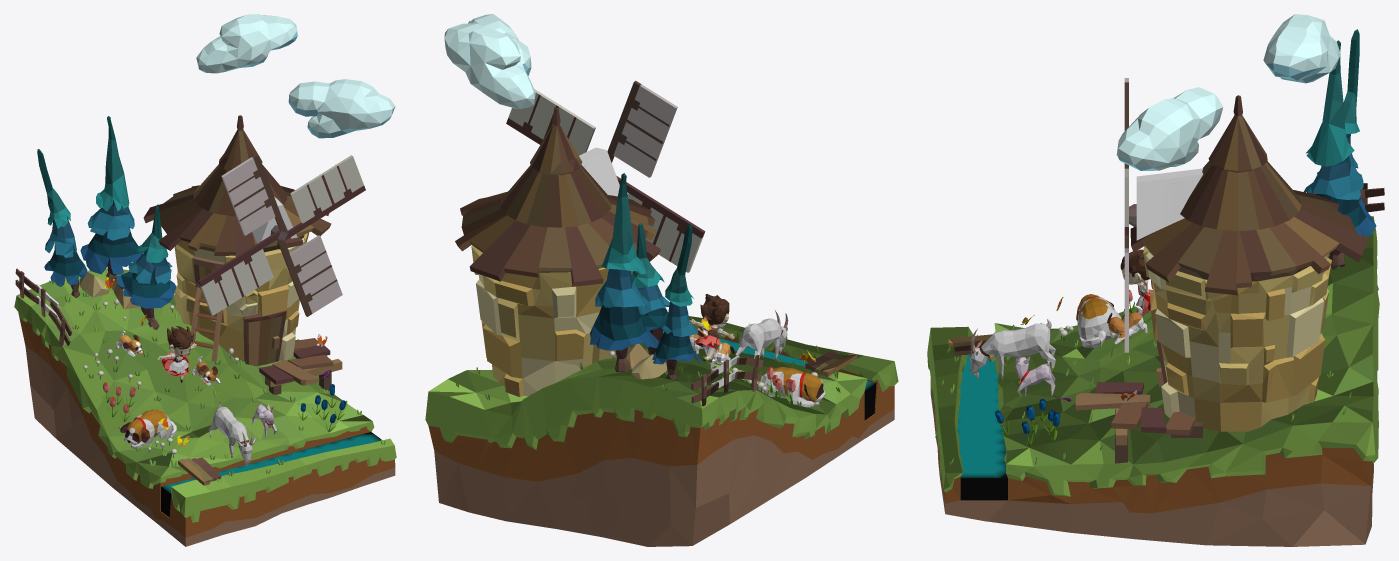
File: 0022_heidi.fbx
3 views of the same model, side by side, from view 1: azimuth 30°, elevation 25°; view 2: azimuth 150°, elevation 25°; view 3: azimuth 270°, elevation 25° (orthographic). The views are drawn at different scales.
Visible parts, largest first — view 1: Plate01, Plate02, Windmill_Roof01, Windmill_brick, WindMill_wing02 (×2), WindMill_wing01 (×2), Cloud01, Cloud02, Door, Tree02_Leaves03, [water], Tree02_Leaves01 (+16 smaller); view 2: Plate01, Windmill_Roof01, Windmill_brick, Cloud02, WindMill_wing02 (×2), WindMill_wing01, Plate02, Tree02_Leaves03, Tree02_Leaves01, Tree02_Leaves02, Goat, Windmill_Roof02 (+11 smaller); view 3: Plate01, Windmill_brick, Windmill_Roof01, Cloud01, [water], Plate02, Cloud02, Windmill_Roof02, Goat, Tree02_Leaves01, Tree02_Leaves02, Dog_Body (+9 smaller).
Boxes of the visible parts, bbox=[...] form: Plate01: bbox=[14, 268, 374, 525]; Plate02: bbox=[160, 438, 396, 546]; Windmill_Roof01: bbox=[143, 115, 331, 256]; Windmill_brick: bbox=[174, 232, 308, 361]; WindMill_wing02 (×2): bbox=[198, 155, 365, 315]; WindMill_wing01 (×2): bbox=[221, 154, 342, 316]; Cloud01: bbox=[288, 79, 395, 138]; Cloud02: bbox=[196, 14, 297, 73]; Door: bbox=[243, 310, 286, 366]; Tree02_Leaves03: bbox=[80, 227, 142, 274]; [water]: bbox=[161, 432, 380, 517]; Tree02_Leaves01: bbox=[96, 116, 129, 211]; Plate01: bbox=[425, 343, 867, 546]; Windmill_Roof01: bbox=[455, 107, 660, 286]; Windmill_brick: bbox=[471, 245, 632, 396]; Cloud02: bbox=[444, 23, 535, 109]; WindMill_wing02 (×2): bbox=[506, 89, 705, 272]; WindMill_wing01: bbox=[607, 80, 677, 177]; Plate02: bbox=[688, 316, 898, 438]; Tree02_Leaves03: bbox=[590, 305, 659, 350]; Tree02_Leaves01: bbox=[601, 173, 646, 274]; Tree02_Leaves02: bbox=[595, 269, 648, 307]; Goat: bbox=[735, 310, 788, 367]; Windmill_Roof02: bbox=[579, 147, 619, 196]; Plate01: bbox=[988, 216, 1379, 546]; Windmill_brick: bbox=[1143, 246, 1331, 431]; Windmill_Roof01: bbox=[1130, 95, 1368, 295]; Cloud01: bbox=[1116, 87, 1223, 170]; [water]: bbox=[957, 354, 1007, 500]; Plate02: bbox=[927, 326, 1007, 521]; Cloud02: bbox=[1263, 14, 1340, 83]; Windmill_Roof02: bbox=[1136, 168, 1203, 240]; Goat: bbox=[969, 319, 1055, 379]; Tree02_Leaves01: bbox=[1306, 40, 1354, 166]; Tree02_Leaves02: bbox=[1303, 156, 1363, 199]; Dog_Body: bbox=[1077, 296, 1121, 340].
Size of the model in its own units: 15.71 by 19.89 by 16.06.
